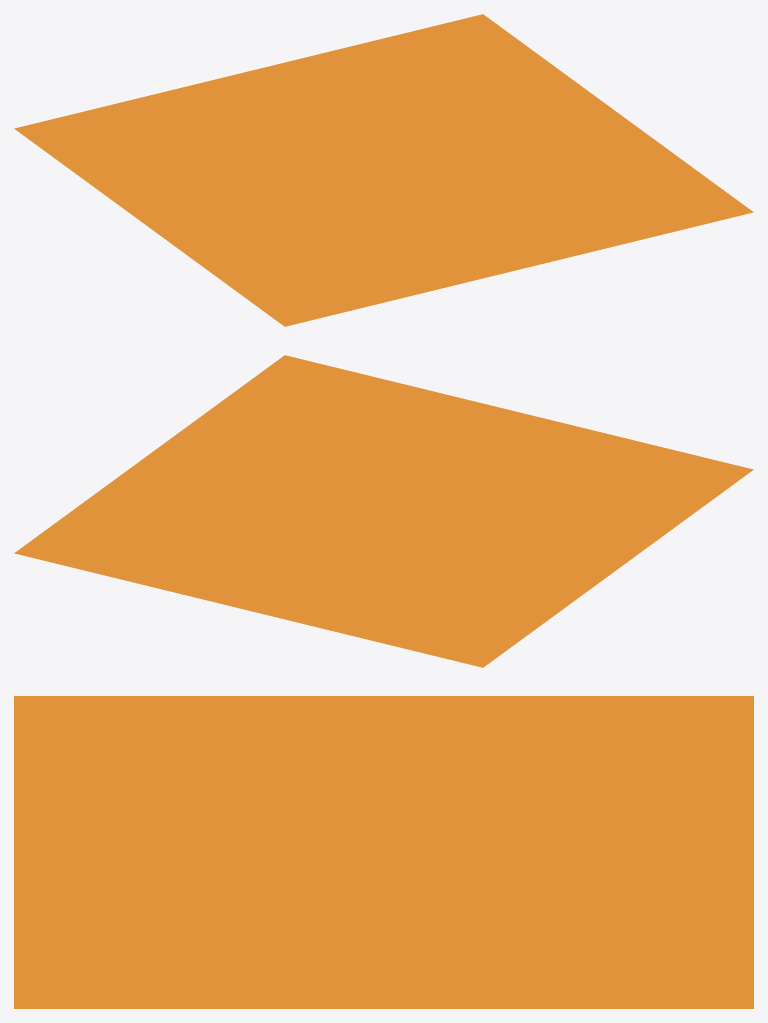
File: BOTTOM_ORANGE.gltf
The picture shows the model from 3 angles, top to bottom: view 1: azimuth 30°, elevation 25°; view 2: azimuth 150°, elevation 25°; view 3: azimuth 270°, elevation 25°; orthographic projection. The views are drawn at different scales.
Visible parts, largest first — view 1: BOTTOM; view 2: BOTTOM; view 3: BOTTOM.
Part boxes in pixels (<box>): BOTTOM: <box>14,14,753,326</box>; BOTTOM: <box>14,355,753,667</box>; BOTTOM: <box>14,696,753,1008</box>.
Size of the model in its own units: 1.75 by 0 by 1.75.
Materials: 1 (1 with a texture image).
